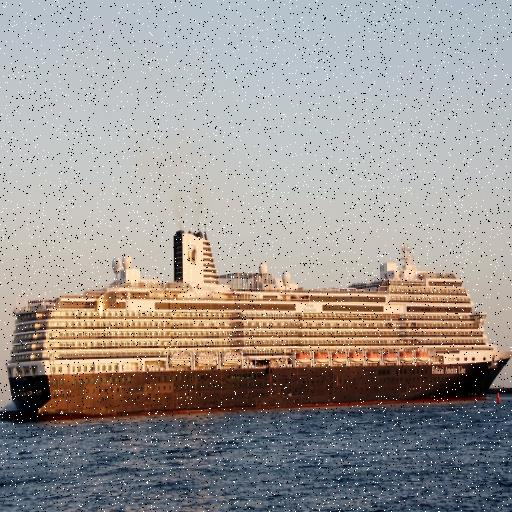cruises: (1, 222, 512, 426)
